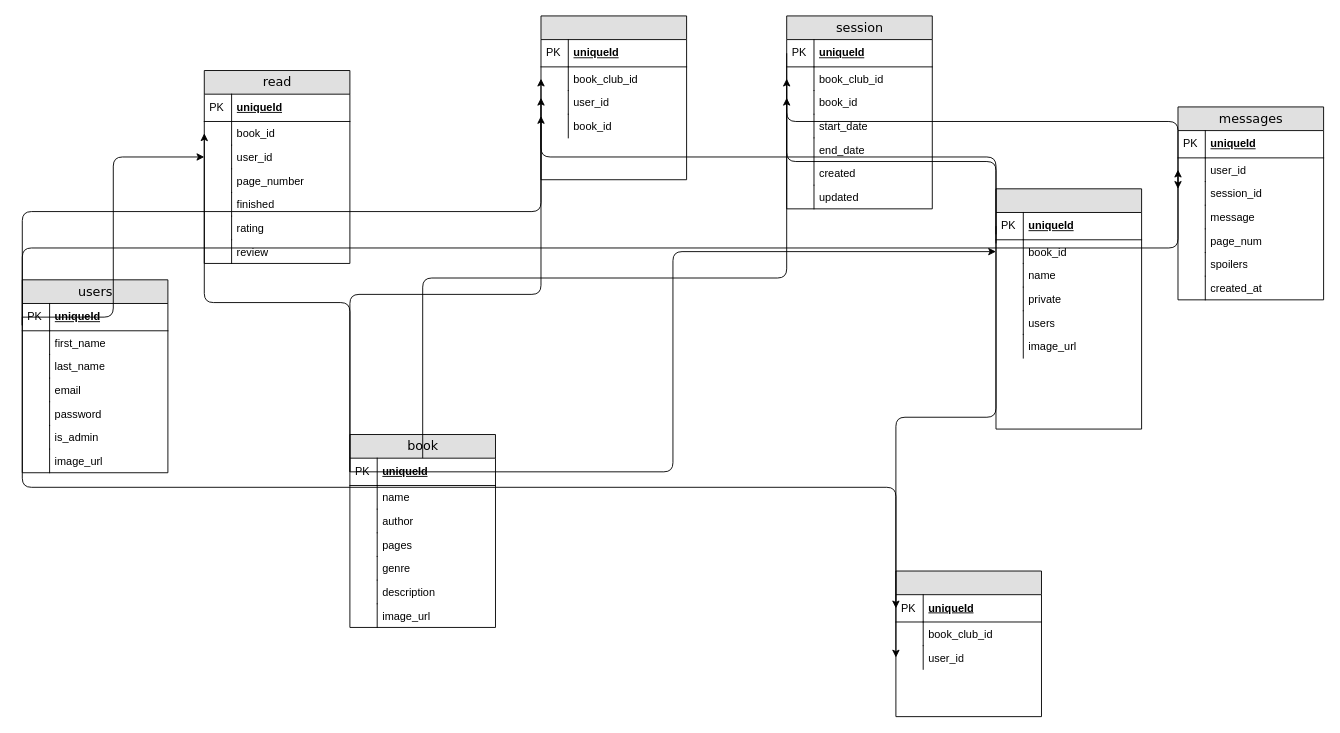
Image size: 1340x733. Some labels were removed from this diagram. Each missing label, with the box of its shape:
book_club: (995, 188, 1142, 429)
book_club_readers: (540, 15, 687, 180)
club_users: (895, 570, 1041, 717)
